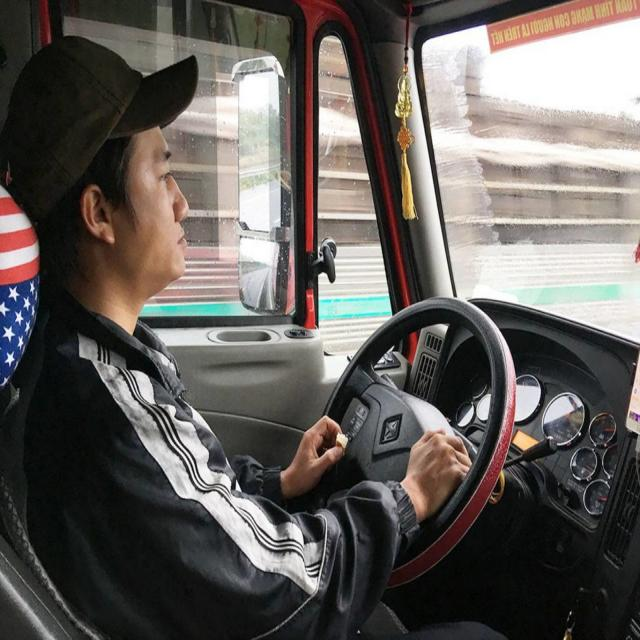Nonhelmet: (0, 20, 212, 308)
